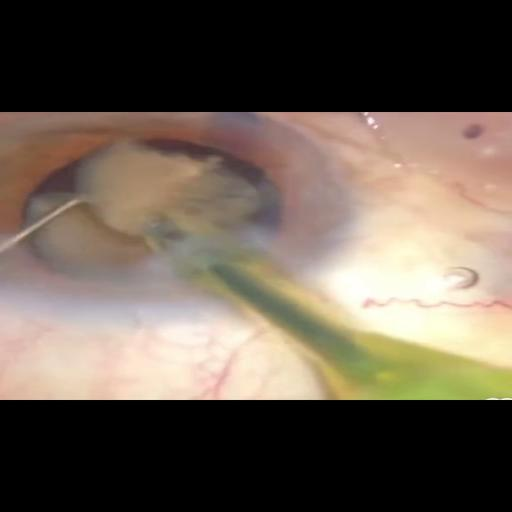catarata: (22, 139, 268, 290)
cornea: (0, 109, 414, 308)
pupil: (0, 123, 321, 290)
